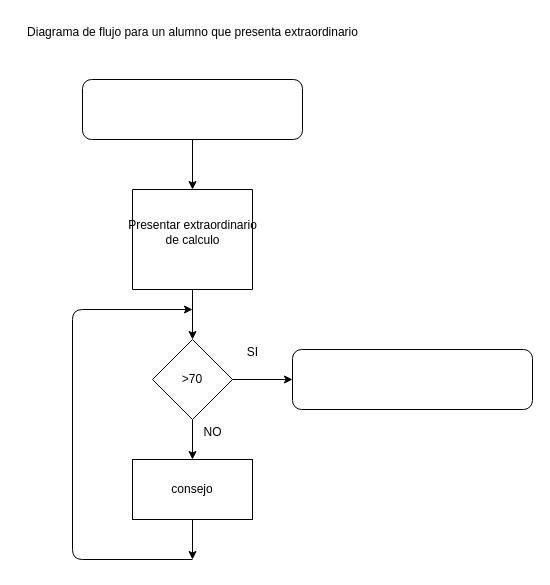
Image size: 550x585. Some labels were removed from this diagram. Here are the shapes that lost their labels. From the top down, the box of each, then its label:
(82, 78, 302, 140): INICIO
(292, 348, 532, 410): FIN
